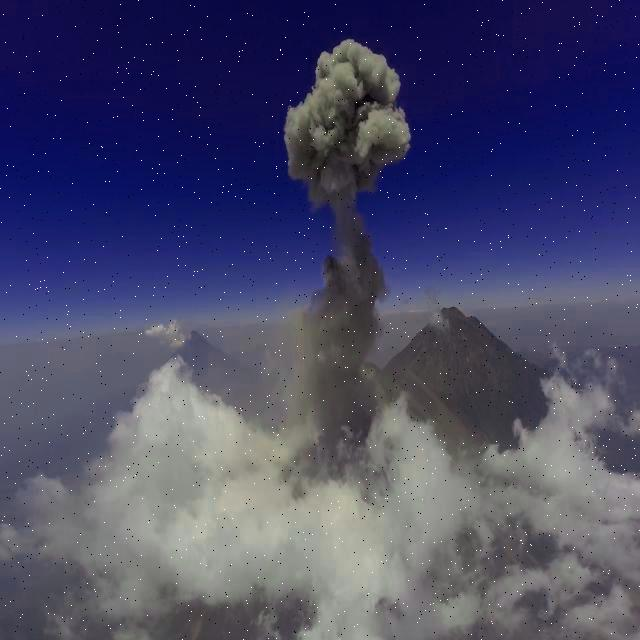Plume: (285, 36, 413, 399)
